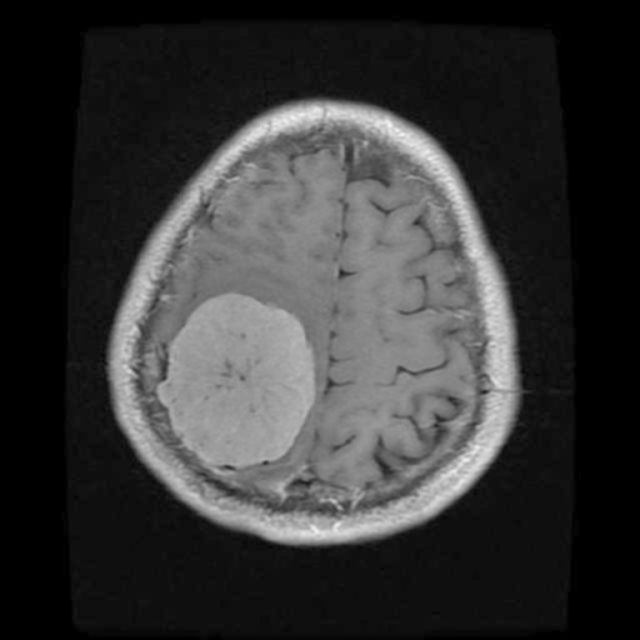meningioma tumor: (160, 272, 322, 482)
